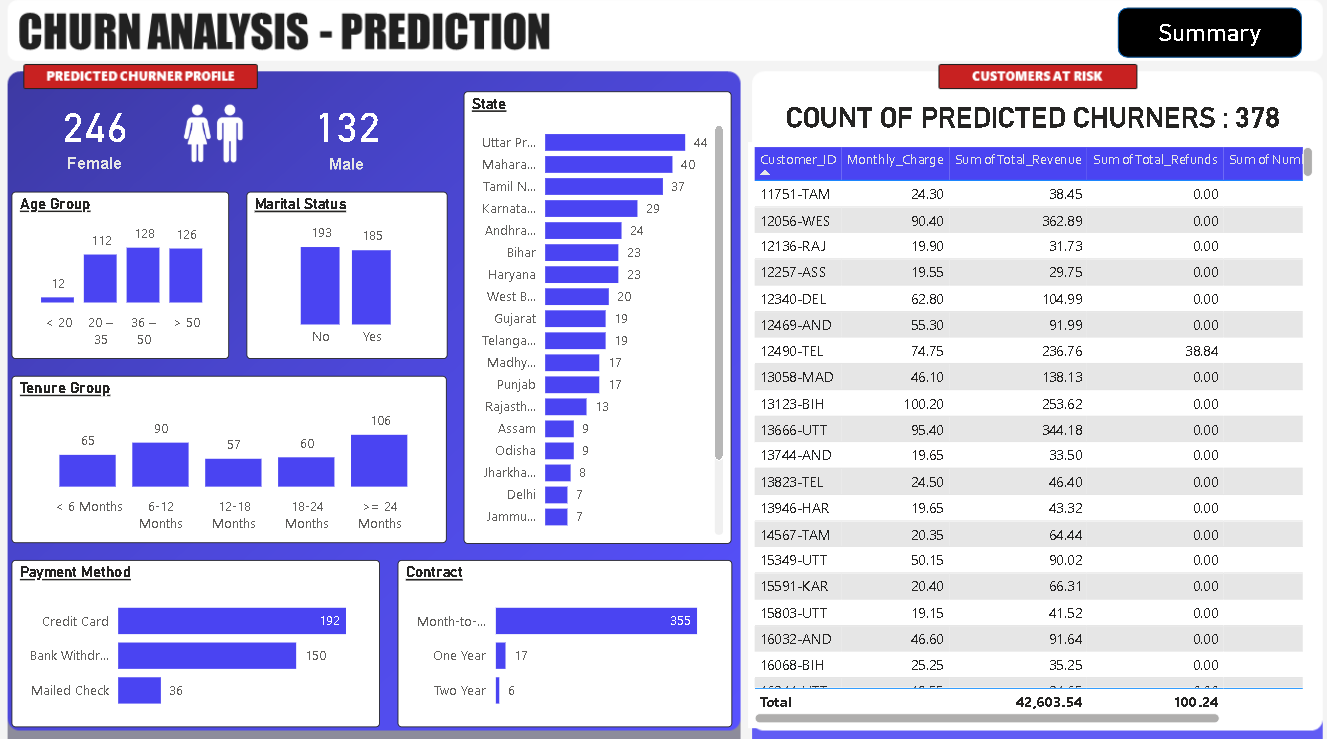

This screenshot's page, from the dashboard's own definition file:
{"tool":"powerbi","page":{"name":"Predictive","canvas":[1280,720],"ordinal":1},"visuals":[{"type":"tableEx","fields":{"Values":["predictive_data.Customer_ID","predictive_data.Monthly_Charge","Sum(predictive_data.Total_Revenue)","Sum(predictive_data.Total_Refunds)","Sum(predictive_data.Number_of_Referrals)"]},"box":[720,144,544,560],"z":0},{"type":"card","fields":{"Values":["tbl_measures.Title Predicted Churners"]},"box":[720,96,544,48],"z":1000},{"type":"card","fields":{"Values":["tbl_measures.Count Predicted Churner"]},"box":[16,96,160,80],"z":2000},{"type":"card","fields":{"Values":["tbl_measures.Count Predicted Churner"]},"box":[240,96,192,80],"z":3000},{"type":"clusteredColumnChart","title":"Age Group","fields":{"Category":["mapping_AgeGrp.Age Group"],"Y":["CountNonNull(predictive_data.Customer_ID)"]},"box":[16,192,208,160],"z":4000},{"type":"clusteredColumnChart","title":"Marital Status","fields":{"Y":["CountNonNull(predictive_data.Customer_ID)"],"Category":["predictive_data.Married"]},"box":[240,192,192,160],"z":5000},{"type":"clusteredColumnChart","title":"Tenure Group ","fields":{"Y":["CountNonNull(predictive_data.Customer_ID)"],"Category":["mapping_TenureGrp.  Tenure Group"]},"box":[16,368,416,160],"z":6000},{"type":"barChart","title":"Contract","fields":{"Category":["predictive_data.Contract"],"Y":["CountNonNull(predictive_data.Customer_ID)"]},"box":[384,544,320,160],"z":7000},{"type":"barChart","title":"State","fields":{"Y":["CountNonNull(predictive_data.Customer_ID)"],"Category":["predictive_data.State"]},"box":[448,96,256,432],"z":8000},{"type":"barChart","title":"Payment Method","fields":{"Y":["CountNonNull(predictive_data.Customer_ID)"],"Category":["predictive_data.Payment_Method"]},"box":[16,544,352,160],"z":9000},{"type":"image","box":[128,96,160,80],"z":10000},{"type":"shape","box":[1072,16,176,48],"z":11000}]}

Visuals, with their boxes in screenshot pixels (x1, y1, x2, y2), scaled from the page's 1280x720 canvas onto the 1327x739 screenshot:
tableEx - predictive_data.Customer_ID x predictive_data.Monthly_Charge: l=746, t=148, r=1310, b=723
card - tbl_measures.Title Predicted Churners: l=746, t=99, r=1310, b=148
card - tbl_measures.Count Predicted Churner: l=17, t=99, r=182, b=181
card - tbl_measures.Count Predicted Churner: l=249, t=99, r=448, b=181
"Age Group" clusteredColumnChart: l=17, t=197, r=232, b=361
"Marital Status" clusteredColumnChart: l=249, t=197, r=448, b=361
"Tenure Group " clusteredColumnChart: l=17, t=378, r=448, b=542
"Contract" barChart: l=398, t=558, r=730, b=723
"State" barChart: l=464, t=99, r=730, b=542
"Payment Method" barChart: l=17, t=558, r=382, b=723
image: l=133, t=99, r=299, b=181
shape: l=1111, t=16, r=1294, b=66
